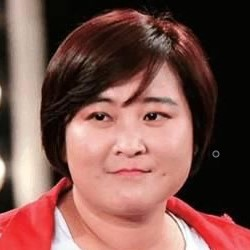unmask: (51, 66, 199, 220)
